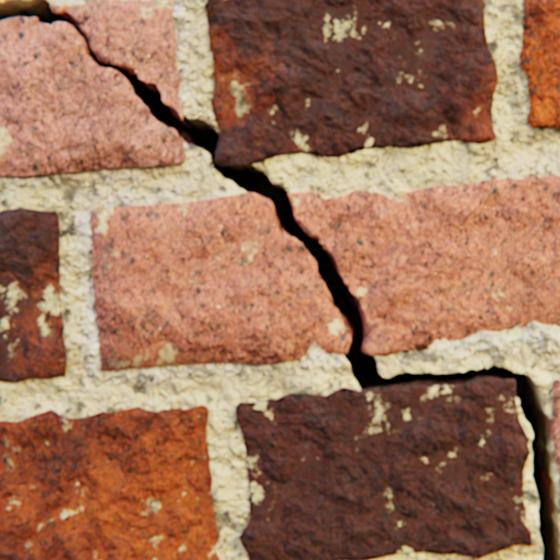brick: (236, 377, 530, 559), (206, 0, 496, 167), (0, 404, 221, 559), (0, 208, 67, 381), (518, 0, 559, 128), (552, 379, 559, 471)
broken_brick: (287, 175, 559, 354), (91, 193, 349, 370), (0, 18, 185, 176), (51, 0, 183, 119)
crack: (0, 0, 559, 559), (309, 341, 316, 349)
